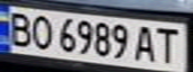6: (54, 16, 78, 53)
8: (90, 19, 115, 57)
9: (109, 21, 133, 61), (72, 18, 96, 56)
A: (133, 22, 160, 63)
B: (3, 9, 36, 47)
O: (27, 12, 57, 50)
T: (151, 25, 184, 64)
